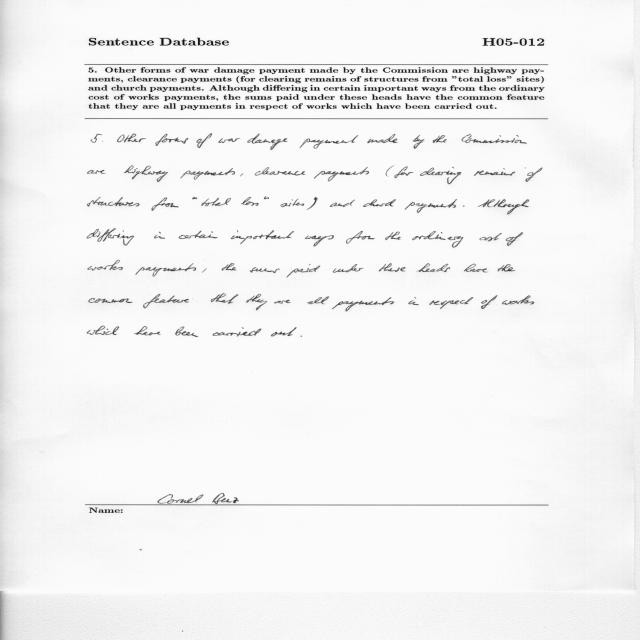word: (231, 230, 294, 244), (332, 298, 394, 312), (135, 263, 196, 277), (478, 199, 529, 215), (412, 231, 463, 247), (300, 135, 358, 149), (87, 229, 134, 246), (314, 167, 369, 181), (405, 199, 457, 213), (124, 166, 168, 182), (420, 167, 461, 184), (180, 168, 235, 180), (247, 134, 288, 150), (462, 134, 527, 144), (143, 294, 189, 308), (430, 297, 474, 309), (88, 197, 140, 206), (255, 167, 306, 176), (287, 264, 321, 277), (213, 328, 262, 337), (156, 134, 189, 146), (88, 260, 123, 271), (152, 197, 179, 211), (346, 231, 375, 244), (179, 230, 218, 239), (305, 235, 334, 247), (246, 294, 267, 310), (474, 168, 515, 176), (502, 295, 534, 305), (417, 263, 450, 272), (211, 293, 238, 304), (88, 326, 120, 335), (333, 264, 364, 273), (368, 134, 398, 143), (134, 326, 161, 336), (363, 199, 396, 207), (117, 134, 146, 143), (526, 167, 543, 182), (175, 326, 198, 337), (379, 263, 406, 272), (201, 198, 231, 206), (506, 232, 523, 246), (271, 327, 297, 336), (196, 134, 212, 148), (481, 295, 497, 309), (89, 298, 132, 303), (395, 167, 414, 178), (280, 199, 304, 207), (464, 264, 488, 272), (479, 233, 502, 241), (250, 267, 280, 273), (307, 297, 329, 305), (330, 200, 355, 207), (241, 197, 259, 206), (413, 135, 424, 149), (498, 264, 516, 272), (307, 197, 318, 210), (385, 232, 401, 240), (222, 263, 237, 271), (433, 135, 447, 143), (91, 134, 103, 143), (219, 138, 240, 143), (408, 297, 419, 305), (386, 166, 394, 176), (154, 232, 165, 239), (88, 170, 105, 174), (274, 300, 291, 304), (202, 268, 207, 273), (192, 197, 197, 199), (264, 197, 269, 199), (240, 174, 243, 177), (300, 335, 302, 337), (463, 206, 465, 207), (102, 141, 103, 142)
